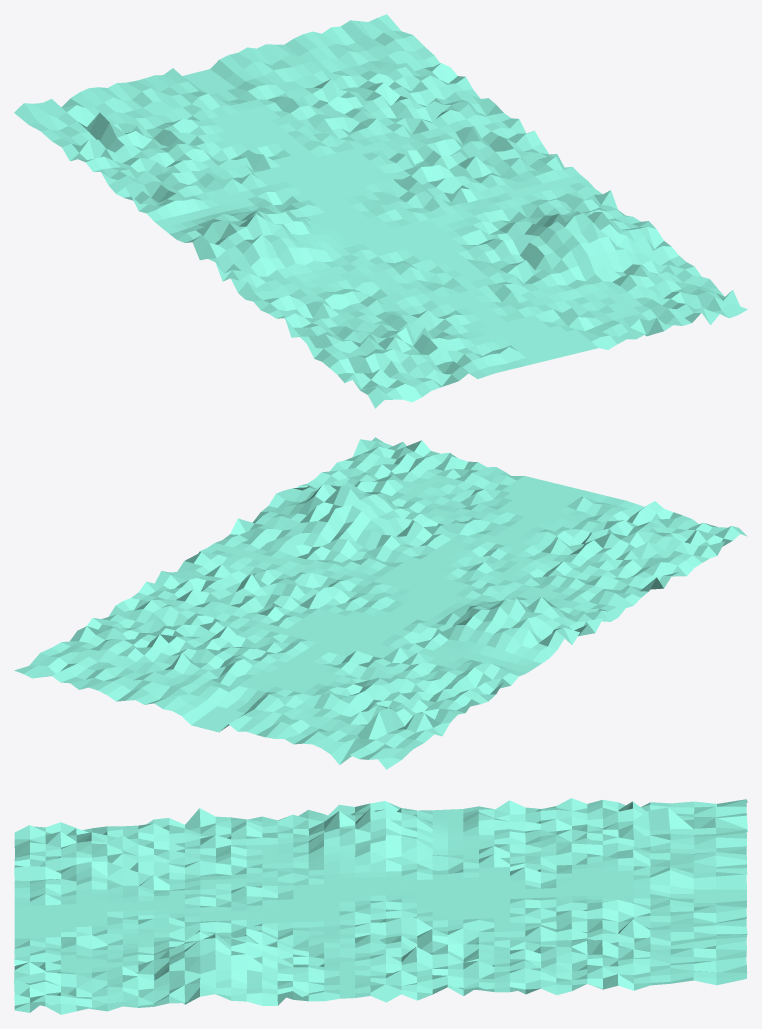
Rendered from Backdrop_Mountains.FBX.
The picture shows the model from 3 angles, top to bottom: view 1: azimuth 30°, elevation 25°; view 2: azimuth 150°, elevation 25°; view 3: azimuth 270°, elevation 25°; orthographic projection.
Parts seen in each view (by area): view 1: sadsadasd; view 2: sadsadasd; view 3: sadsadasd.
Boxes of the visible parts, left/top/right/bottom form: sadsadasd: left=14, top=14, right=747, bottom=408; sadsadasd: left=14, top=437, right=747, bottom=769; sadsadasd: left=14, top=798, right=747, bottom=1014.
Bounding box in the file's own units: 100016 × 14355 × 168132.
